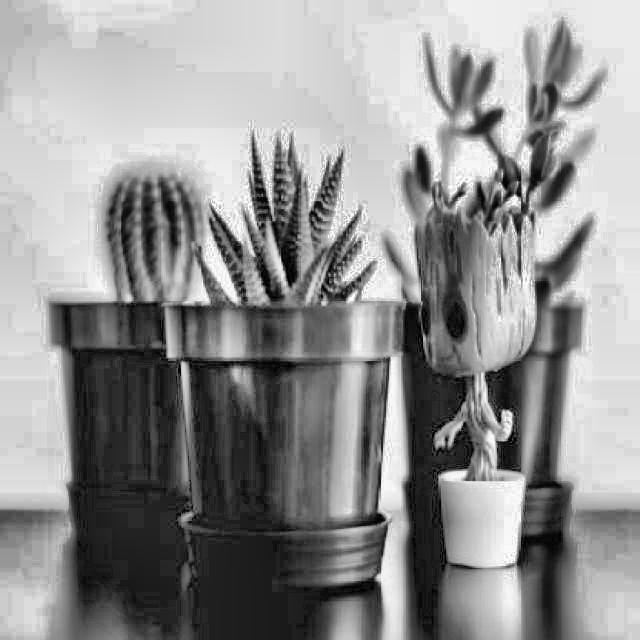plants: (202, 163, 396, 580), (424, 204, 524, 564)
